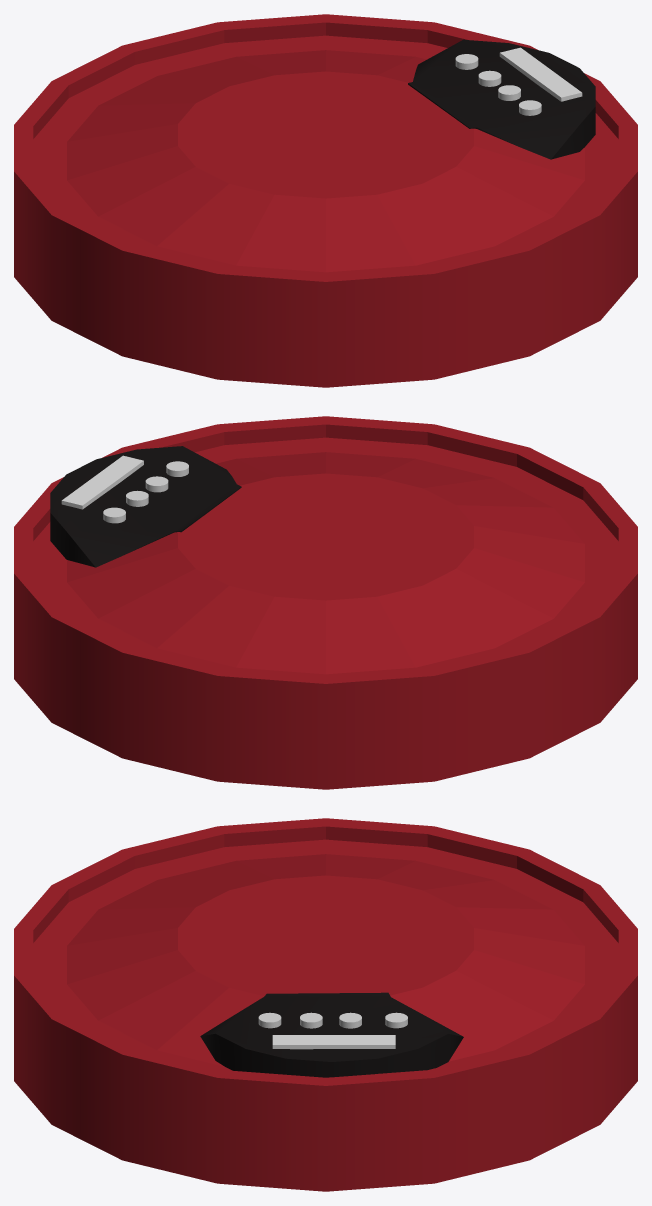
File: Irobot.FBX
3 renders of one model, top to bottom at view 1: azimuth 30°, elevation 25°; view 2: azimuth 150°, elevation 25°; view 3: azimuth 270°, elevation 25°, orthographic.
Parts seen in each view (by area): view 1: Cylinder001, Cylinder002, Box002; view 2: Cylinder001, Cylinder002, Box002; view 3: Cylinder001, Cylinder002, Box002.
Boxes of the visible parts, box(x1,y1,x2,y2) form: Cylinder001: box(14, 14, 637, 387); Cylinder002: box(408, 39, 595, 159); Box002: box(499, 47, 582, 101); Cylinder001: box(14, 416, 637, 789); Cylinder002: box(50, 446, 241, 567); Box002: box(61, 455, 143, 509); Cylinder001: box(14, 818, 637, 1191); Cylinder002: box(200, 992, 463, 1077); Box002: box(272, 1035, 395, 1049).
Size of the model in its own units: 28.17 by 6.83 by 27.74.
